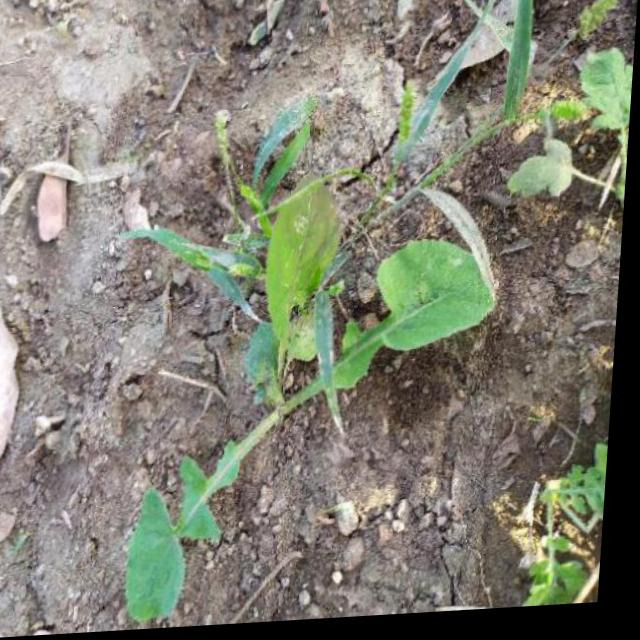weed: (74, 195, 513, 635)
